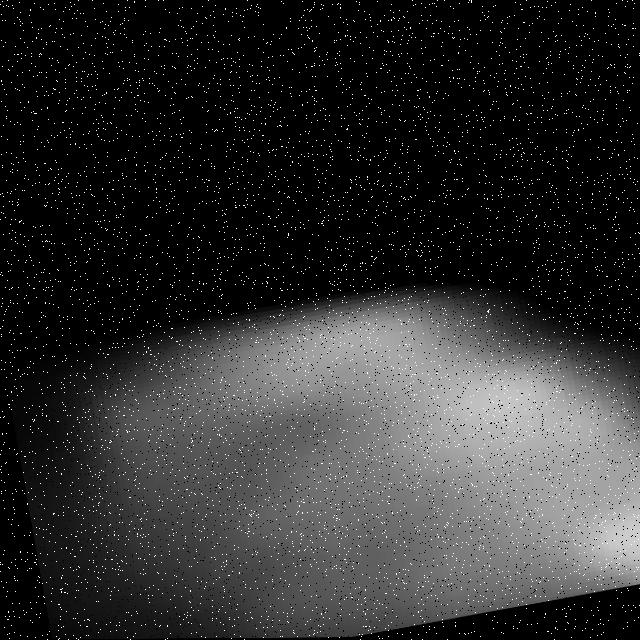person: (47, 235, 640, 640)
